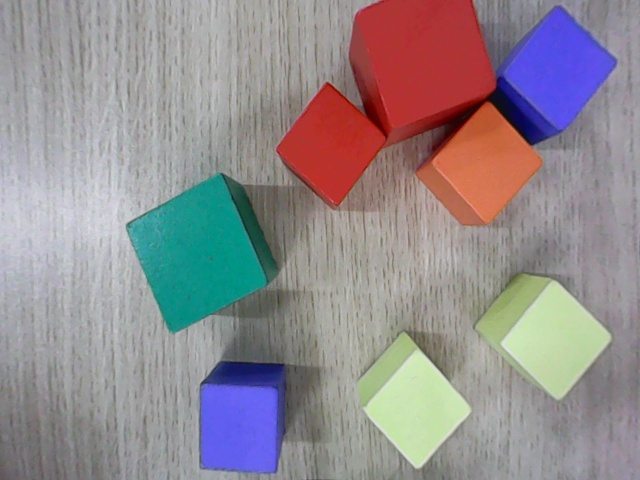upside of big cube: (124, 172, 268, 334), (355, 0, 497, 130)
upside of small cube: (501, 4, 618, 132), (499, 279, 614, 403), (430, 101, 543, 224), (361, 348, 473, 471), (276, 84, 387, 205), (200, 385, 277, 472)
